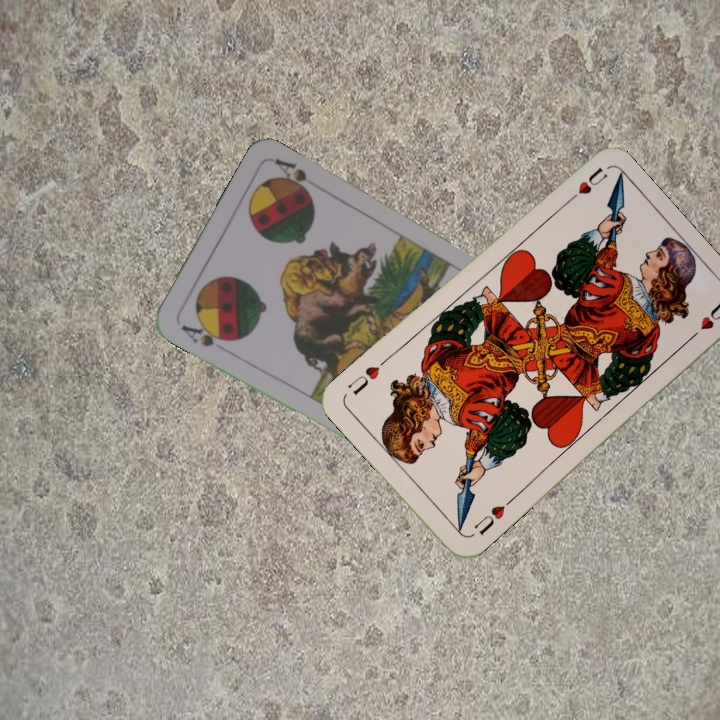HU: (560, 164, 610, 208), (469, 495, 515, 538)
SA: (176, 318, 234, 350)
